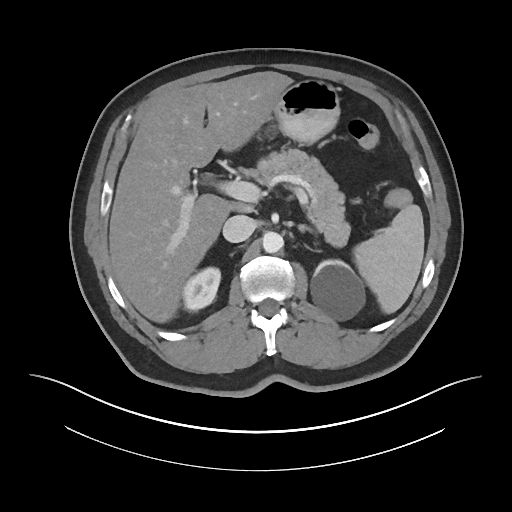Lesion: (307, 264, 368, 325)
